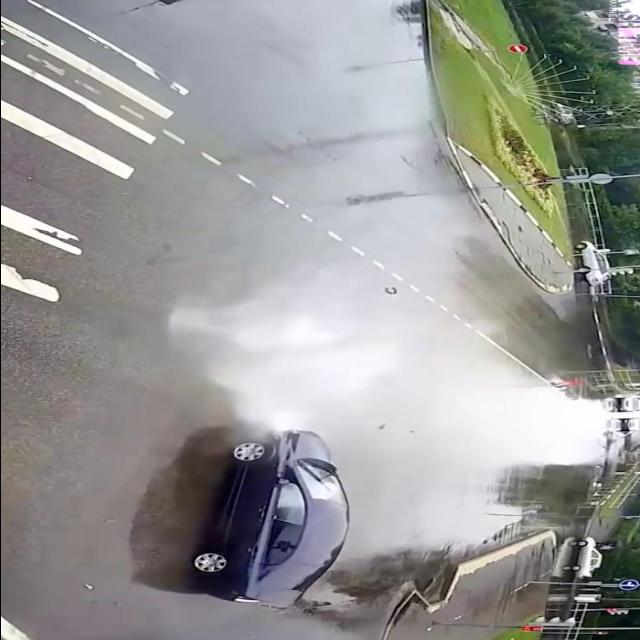accident: (175, 368, 397, 610)
